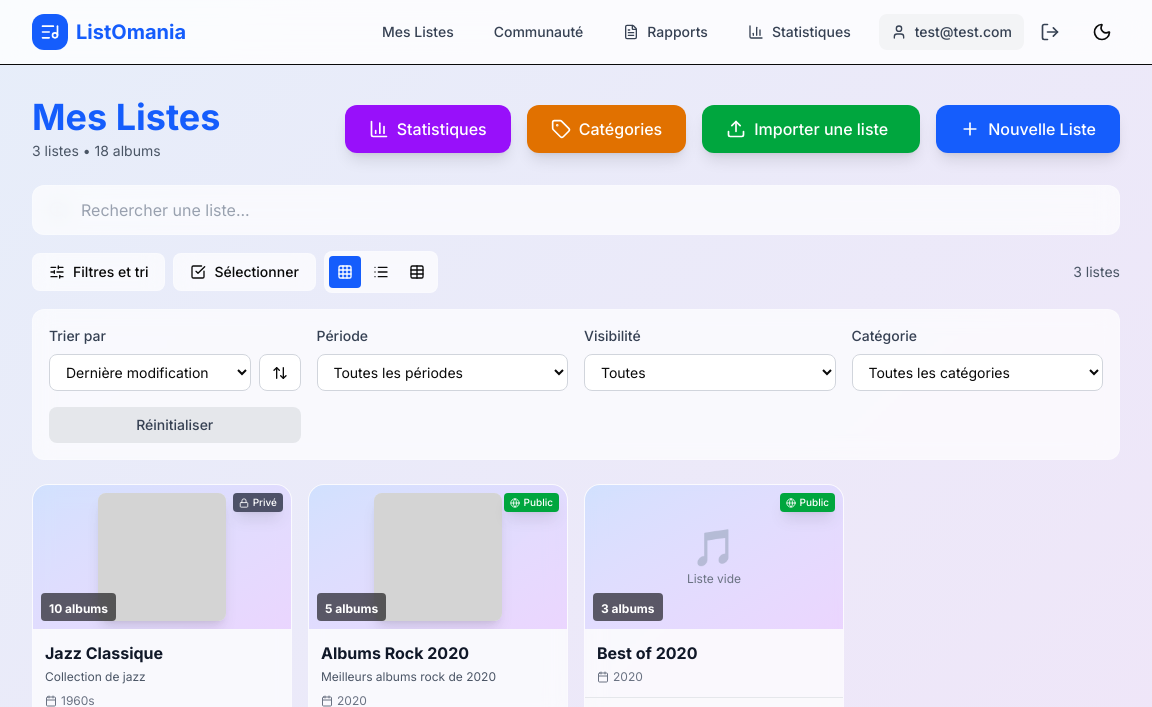
Test: Lists - Filtres et tri › affiche un message si aucune liste ne correspond aux filtres
Type "aucune liste avec ce nom" into the field with placeholder "Rechercher une liste...".
click(576, 210); type("aucune liste avec ce nom")  # box [32, 185, 1120, 235]
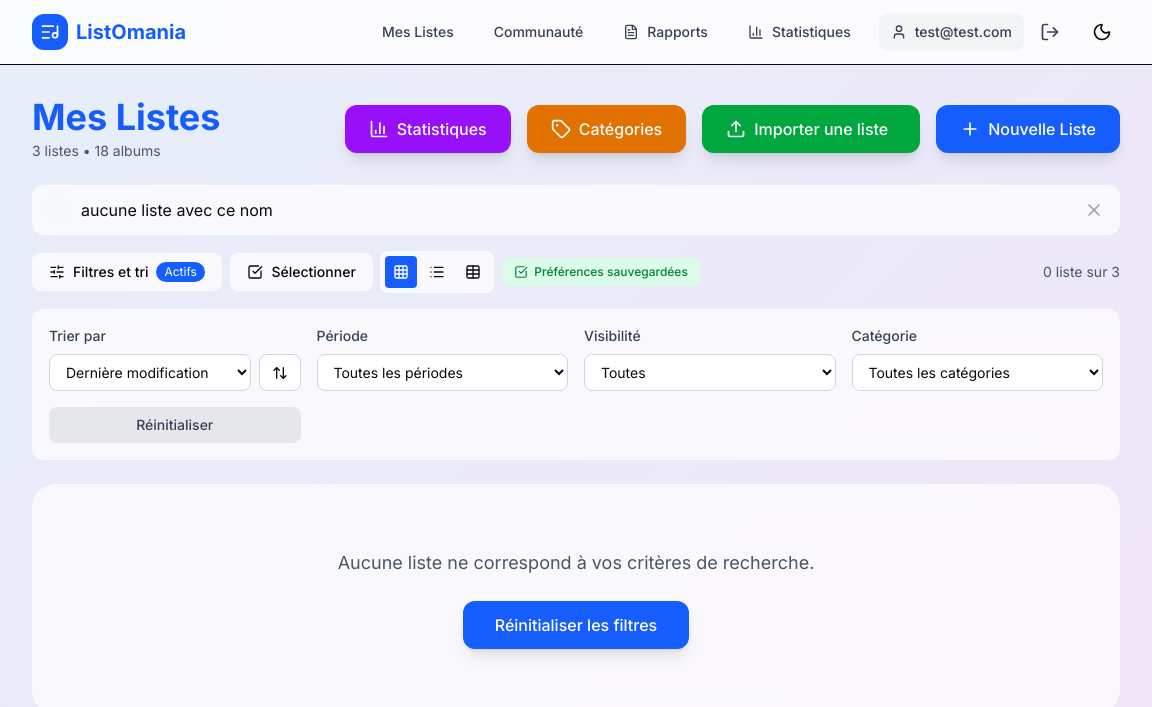
Expected: the text "Aucune liste ne correspond à vos critères de recherche." is shown, [338, 552, 814, 573]
Expected: the button "Réinitialiser les filtres" is shown, [463, 601, 689, 649]
